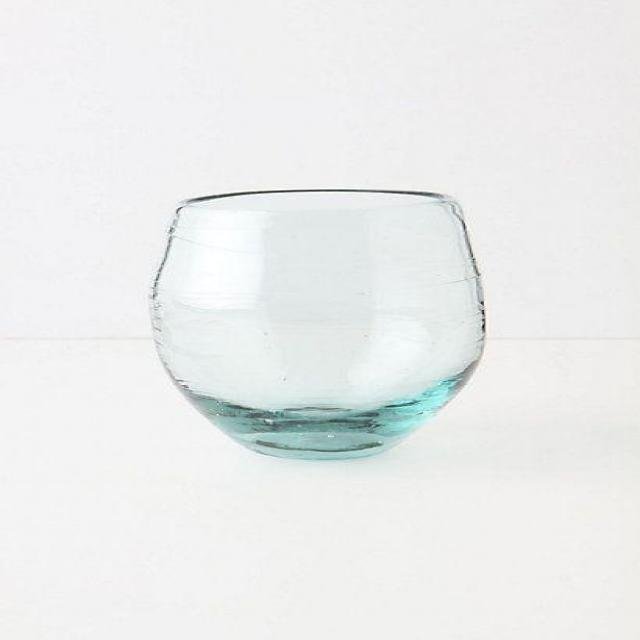glass: (145, 186, 495, 465)
